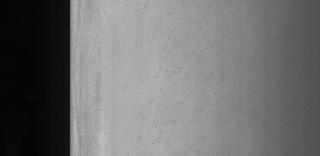silk spot: (140, 14, 222, 134)
